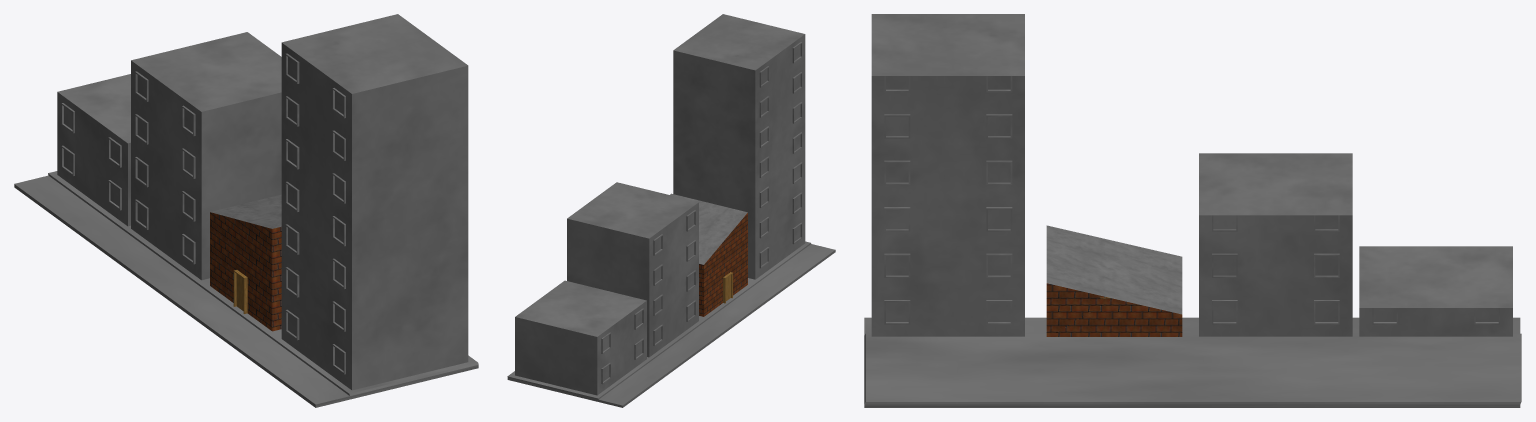
The model's file is Bloco 3.fbx.
The picture shows the model from 3 angles, left to right: view 1: azimuth 30°, elevation 25°; view 2: azimuth 150°, elevation 25°; view 3: azimuth 270°, elevation 25°; orthographic projection. The views are drawn at different scales.
Parts seen in each view (by area): view 1: Bloco 3; view 2: Bloco 3; view 3: Bloco 3.
Part boxes in pixels (bbox=[...]): Bloco 3: bbox=[14, 14, 478, 407]; Bloco 3: bbox=[507, 14, 835, 407]; Bloco 3: bbox=[864, 14, 1521, 407].
Size of the model in its own units: 2500 by 4419 by 8013.
